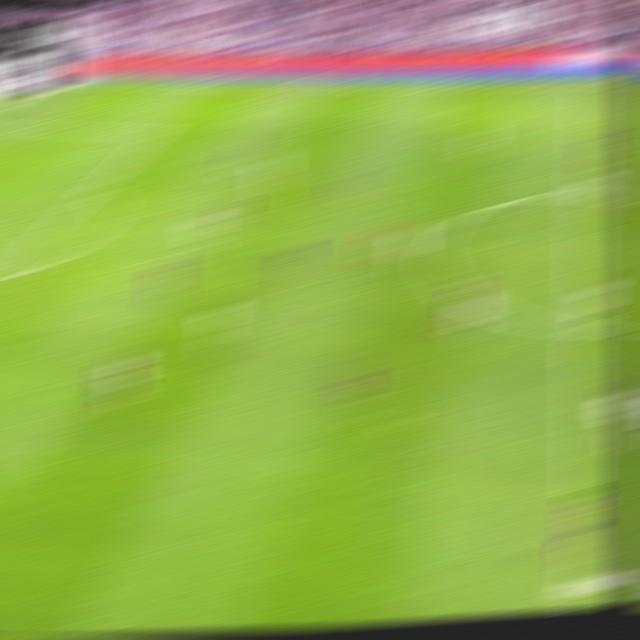bigarea_top_inner: (143, 128, 168, 138)
bottom_arc_area_intersection: (0, 267, 9, 287)
halfcircle_bottom: (567, 317, 599, 340)
halfcircle_top: (571, 183, 602, 204)
midline_top_intersection: (575, 77, 604, 90)
top_arc_area_intersection: (80, 181, 108, 196)
